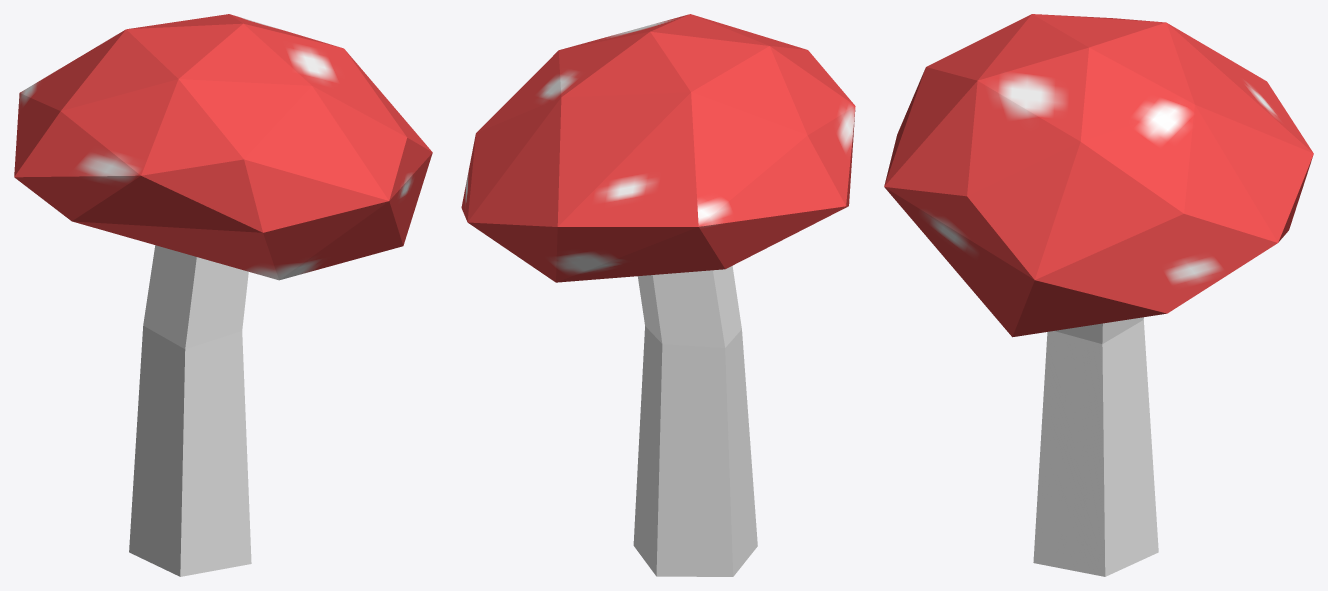
The model's file is Mushroom_e_03.fbx.
The picture shows the model from 3 angles, left to right: view 1: azimuth 30°, elevation 25°; view 2: azimuth 150°, elevation 25°; view 3: azimuth 270°, elevation 25°; orthographic projection. The views are drawn at different scales.
Visible parts, largest first — view 1: Mushroom_e_03; view 2: Mushroom_e_03; view 3: Mushroom_e_03.
Boxes of the visible parts, box(x1,y1,x2,y2) form: Mushroom_e_03: box(14, 14, 432, 576); Mushroom_e_03: box(461, 14, 855, 576); Mushroom_e_03: box(884, 14, 1313, 576).
Bounding box in the file's own units: 0.2432 × 0.3184 × 0.2362.
